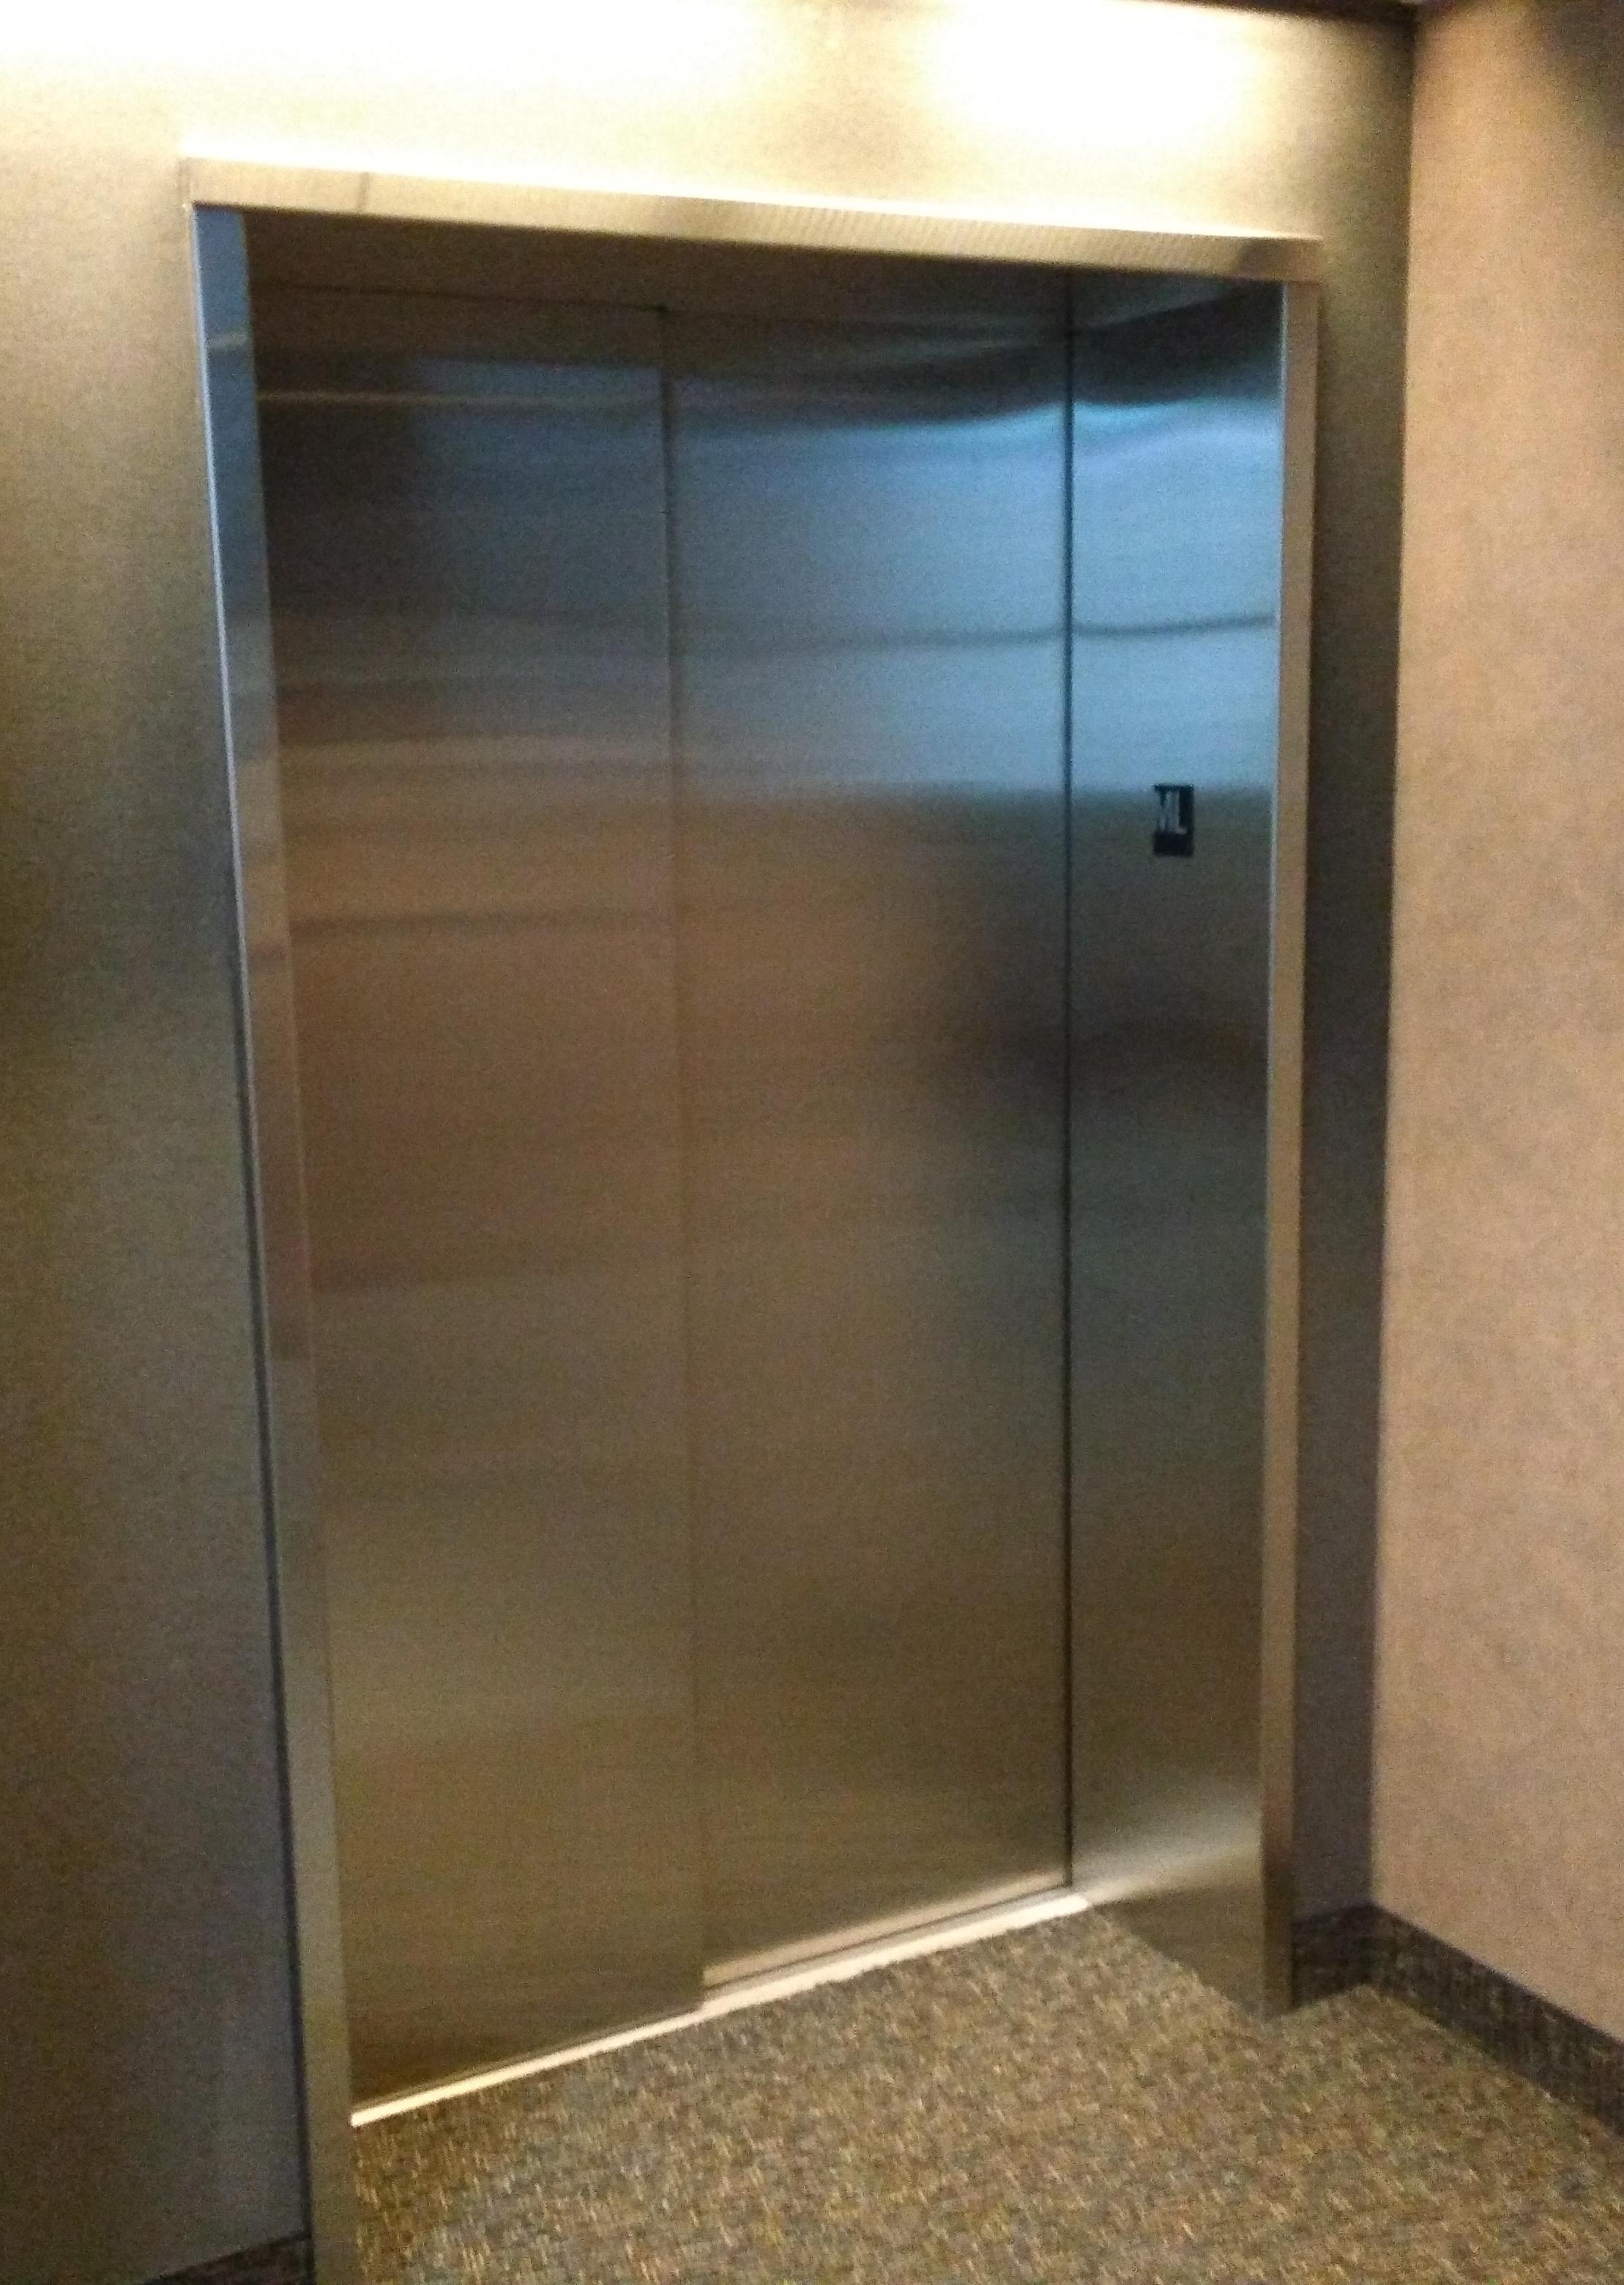door: (170, 153, 1334, 2283)
